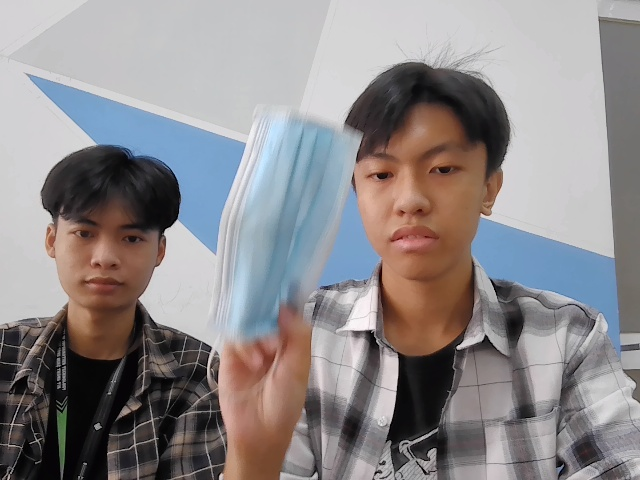human: (345, 67, 512, 281), (41, 140, 177, 312)
mask: (216, 103, 357, 344)
